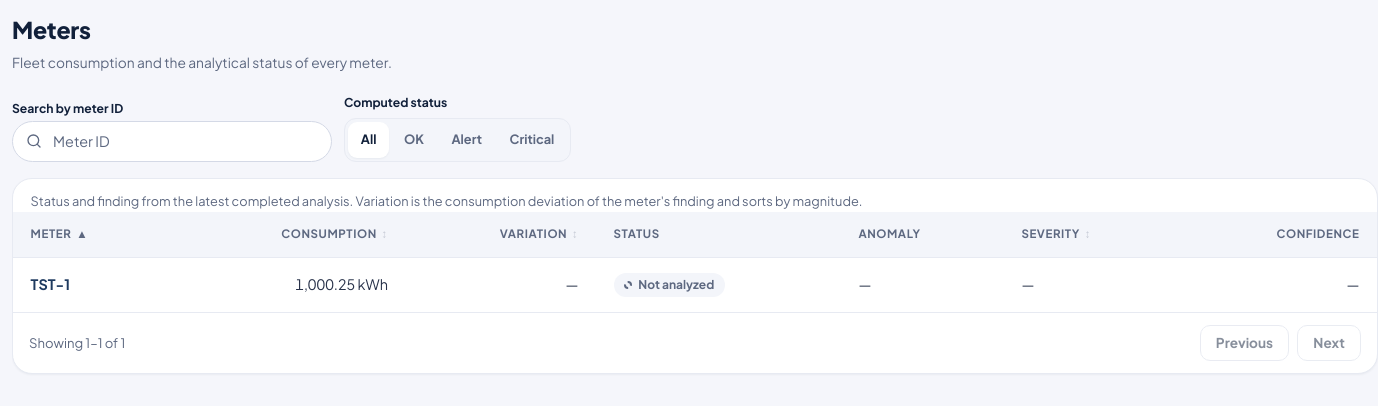
it: MetersView › debounces the search and offers to clear an empty result
Expected: the link "TST-1" is shown, [31,276,70,294]
Step 1. Type "ZZZ" into the search field labelled "Search by meter ID" → x=172, y=141, box [12,120,332,162]
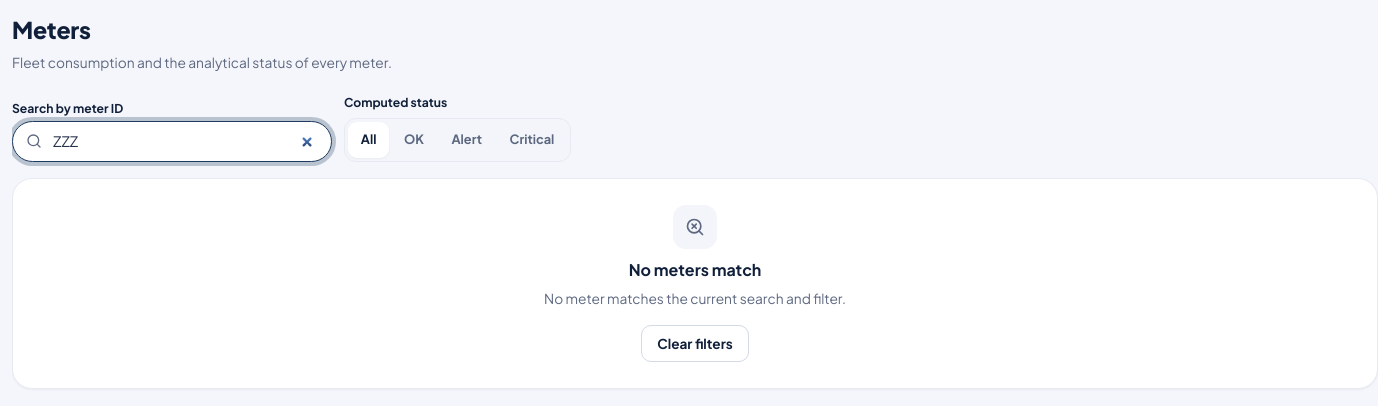
Now the heading "No meters match" is shown, box [629,259,761,280]
Step 2. Click the button "Clear filters" → x=695, y=344, box [641,325,749,362]
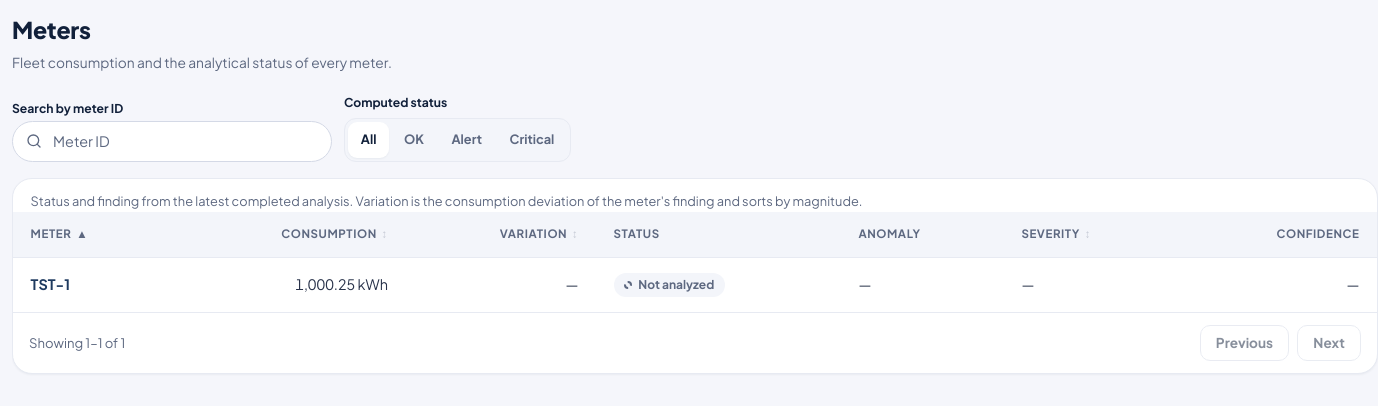
Now the link "TST-1" is shown, box [31,276,70,294]
